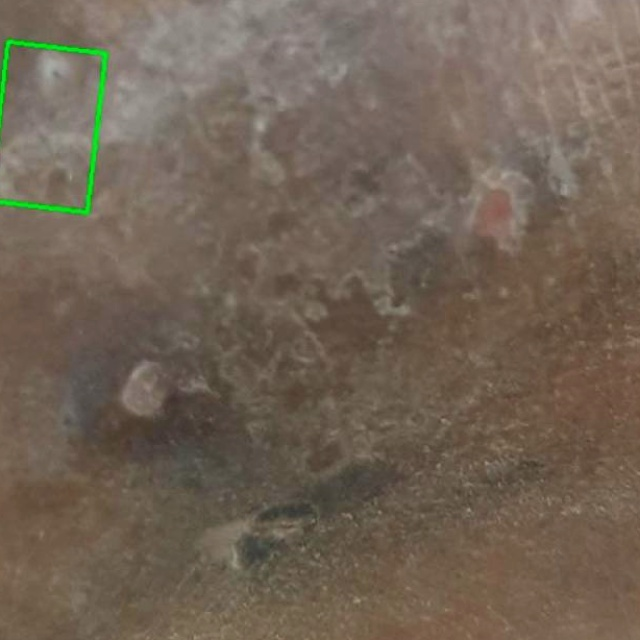Eczema: (0, 42, 105, 213)
